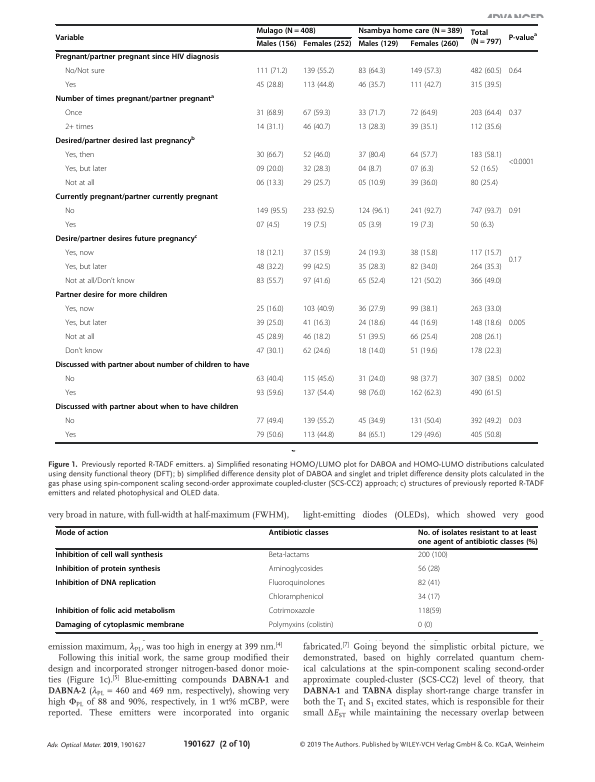borderless: (54, 23, 537, 442), (54, 525, 537, 632)
cell: (417, 529, 538, 547), (55, 361, 250, 371), (55, 403, 239, 413), (55, 94, 215, 105), (55, 53, 220, 63), (55, 193, 219, 203), (55, 234, 198, 245), (55, 136, 196, 147), (55, 621, 185, 631), (55, 607, 176, 617), (55, 291, 168, 301), (55, 551, 164, 561), (55, 565, 161, 575), (55, 579, 157, 589), (357, 27, 463, 36), (268, 621, 334, 631), (64, 277, 136, 286), (268, 579, 326, 589), (470, 29, 502, 47), (268, 565, 324, 575), (268, 593, 324, 603), (268, 529, 330, 538), (255, 27, 316, 36), (302, 40, 352, 50), (409, 40, 459, 50), (55, 529, 109, 538), (268, 607, 315, 617), (255, 40, 297, 50), (357, 40, 399, 50), (268, 551, 310, 561), (64, 165, 108, 174), (64, 263, 108, 272), (64, 319, 108, 328), (64, 67, 105, 76), (64, 347, 103, 356), (508, 32, 538, 43), (417, 551, 448, 561), (55, 33, 85, 43), (255, 67, 288, 76), (302, 67, 335, 76), (409, 67, 442, 76), (302, 81, 335, 90), (409, 81, 442, 90), (255, 207, 288, 216), (302, 207, 335, 216), (357, 207, 390, 216), (409, 207, 442, 216), (409, 277, 442, 286), (302, 305, 335, 314), (302, 375, 335, 384), (302, 389, 335, 398), (409, 389, 442, 398), (302, 417, 335, 426), (409, 417, 442, 426), (302, 431, 335, 440), (409, 431, 442, 440), (470, 67, 502, 76), (470, 81, 502, 90), (470, 109, 502, 118), (470, 123, 502, 132), (470, 151, 502, 160), (470, 207, 502, 216), (470, 249, 502, 258), (470, 263, 502, 272), (470, 277, 502, 286), (470, 305, 502, 314), (470, 319, 502, 328), (470, 333, 502, 342), (470, 347, 502, 356), (470, 375, 502, 384), (470, 389, 502, 398), (470, 417, 502, 426), (470, 431, 502, 440), (64, 151, 95, 160), (64, 179, 95, 188), (64, 249, 95, 258), (64, 305, 95, 314), (64, 333, 95, 342), (64, 123, 94, 132), (357, 67, 386, 76), (255, 81, 284, 90), (357, 81, 386, 90), (255, 109, 284, 118), (302, 109, 331, 118), (357, 109, 386, 118), (409, 109, 438, 118), (255, 123, 284, 132), (302, 123, 331, 132), (357, 123, 386, 132), (409, 123, 438, 132), (255, 151, 284, 160), (302, 151, 331, 160), (357, 151, 386, 160), (409, 151, 438, 160), (255, 165, 284, 174), (302, 165, 331, 174), (470, 165, 499, 174), (255, 179, 284, 188), (302, 179, 331, 188), (357, 179, 386, 188), (409, 179, 438, 188), (470, 179, 499, 188), (255, 249, 284, 258), (302, 249, 331, 258), (357, 249, 386, 258), (409, 249, 438, 258), (255, 263, 284, 272), (302, 263, 331, 272), (357, 263, 386, 272), (409, 263, 438, 272), (255, 277, 284, 286), (302, 277, 331, 286), (357, 277, 386, 286), (255, 305, 284, 314), (357, 305, 386, 314), (409, 305, 438, 314), (255, 319, 284, 328), (302, 319, 331, 328), (357, 319, 386, 328), (409, 319, 438, 328), (255, 333, 284, 342), (302, 333, 331, 342), (357, 333, 386, 342), (409, 333, 438, 342), (255, 347, 284, 356), (302, 347, 331, 356), (357, 347, 386, 356), (409, 347, 438, 356), (255, 375, 284, 384), (357, 375, 386, 384), (409, 375, 438, 384), (255, 389, 284, 398), (357, 389, 386, 398), (255, 417, 284, 426), (357, 417, 386, 426), (255, 431, 284, 440), (357, 431, 386, 440), (417, 607, 442, 617), (508, 158, 535, 167), (417, 565, 441, 575), (417, 579, 441, 589), (417, 593, 441, 603), (357, 165, 383, 174), (409, 165, 435, 174), (255, 221, 281, 230), (357, 221, 383, 230), (409, 221, 435, 230), (302, 221, 327, 230), (470, 221, 495, 230), (64, 109, 83, 118), (508, 319, 526, 328), (508, 375, 526, 384), (417, 621, 433, 631), (508, 67, 522, 76), (508, 109, 522, 118), (508, 207, 522, 216), (508, 256, 522, 265), (508, 417, 522, 426), (64, 81, 77, 90), (64, 221, 77, 230), (64, 389, 77, 398), (64, 431, 77, 440), (64, 207, 75, 216), (64, 375, 75, 384), (64, 417, 75, 426)
